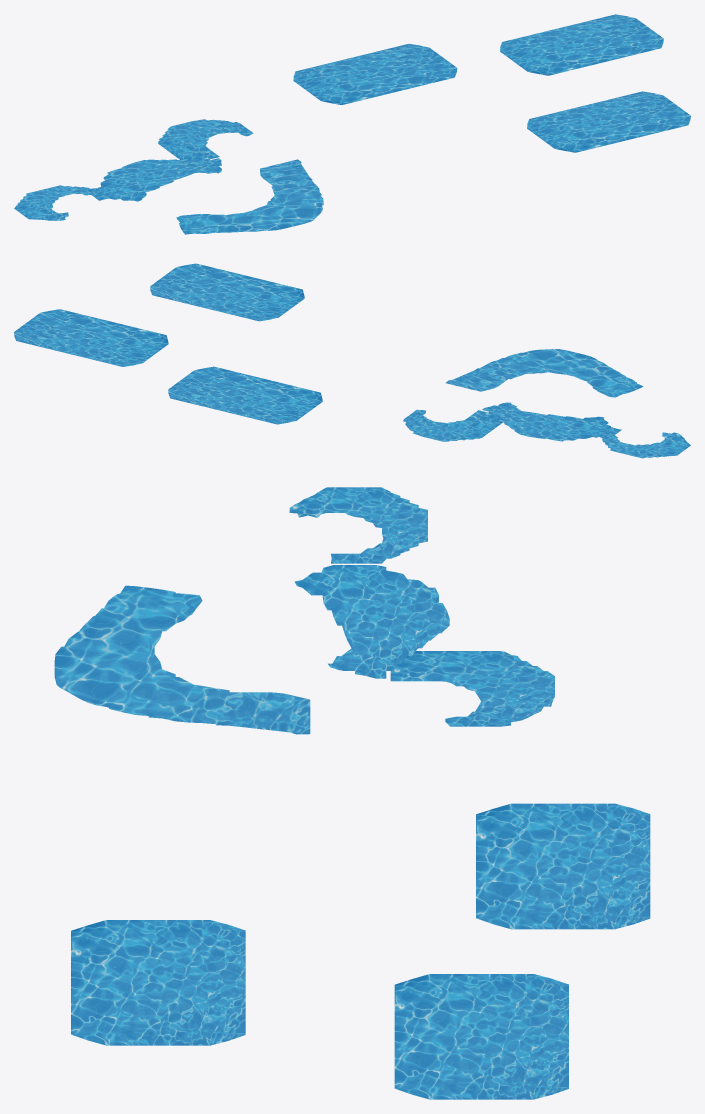
The model's file is agua_arriba.obj.
3 renders of one model, top to bottom at view 1: azimuth 30°, elevation 25°; view 2: azimuth 150°, elevation 25°; view 3: azimuth 270°, elevation 25°, orthographic. The views are drawn at different scales.
Parts seen in each view (by area): view 1: polySurface458; view 2: polySurface458; view 3: polySurface458.
Part boxes in pixels (x1,y1,x2,y2): polySurface458: [14, 14, 690, 234]; polySurface458: [14, 263, 690, 458]; polySurface458: [54, 487, 650, 1099].
Size of the model in its own units: 615 by 3.69 by 254.
5 materials, 5 textured.
